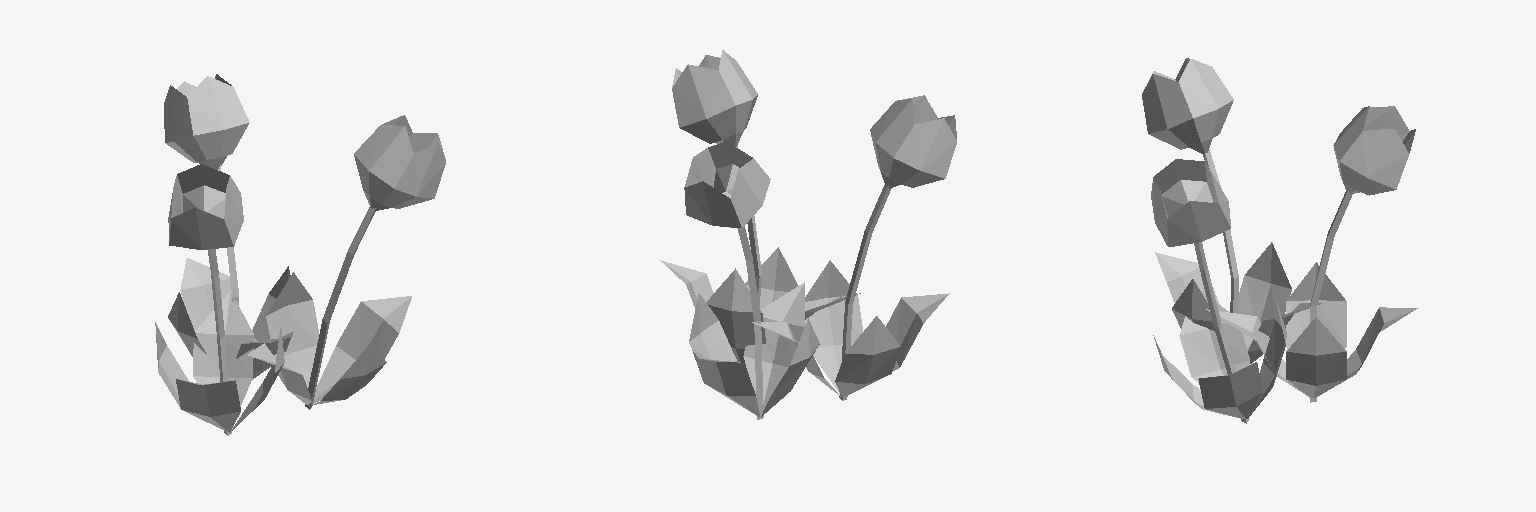
The model's file is roses_black.obj.
The picture shows the model from 3 angles: view 1: azimuth 30°, elevation 25°; view 2: azimuth 150°, elevation 25°; view 3: azimuth 270°, elevation 25°; orthographic projection.
Parts seen in each view (by area): view 1: roses_red; view 2: roses_red; view 3: roses_red.
Part boxes in pixels (left/top/right/bottom): roses_red: left=155, top=74, right=445, bottom=435; roses_red: left=660, top=50, right=956, bottom=419; roses_red: left=1142, top=58, right=1417, bottom=423.
Bounding box in the file's own units: 0.7085 × 0.736 × 0.619.